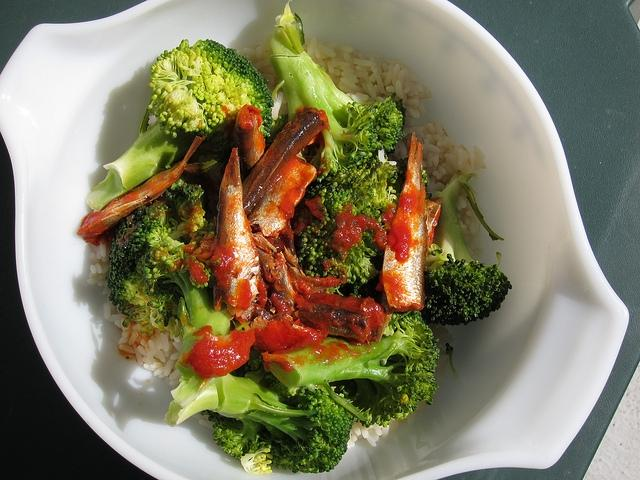broccoli: (85, 40, 275, 213), (268, 0, 406, 185), (264, 310, 440, 426), (106, 202, 234, 337), (200, 373, 358, 475), (420, 172, 512, 326), (297, 182, 358, 277), (347, 162, 403, 230)
